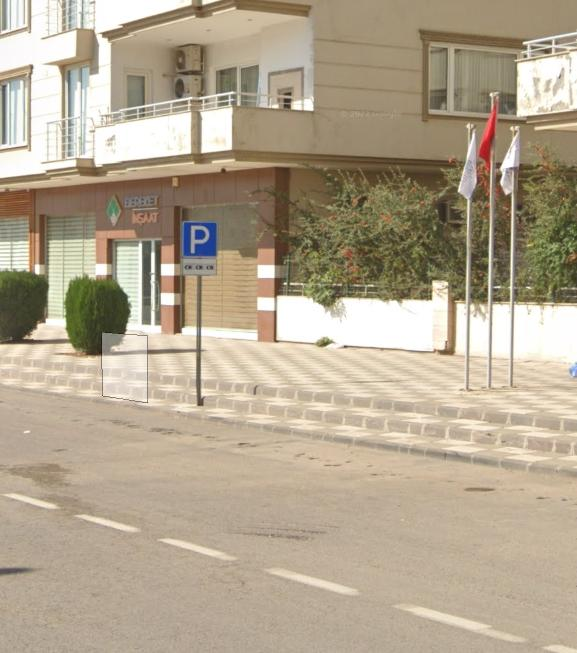park: (182, 222, 218, 256)
